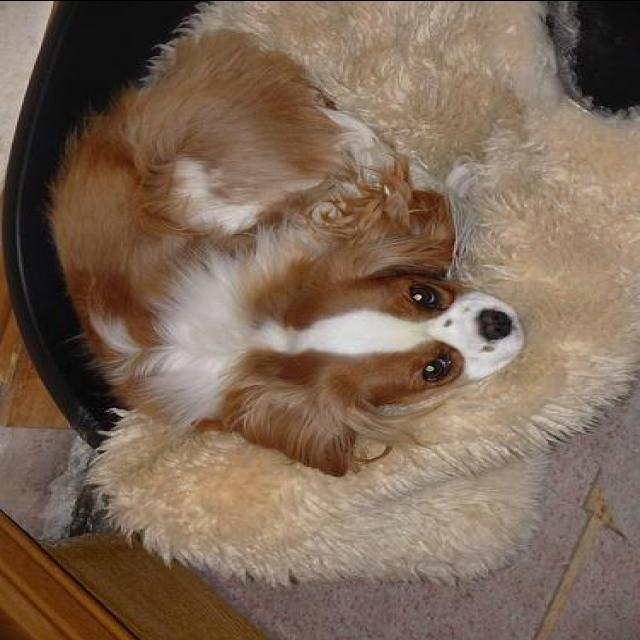blenheim_spaniel: (43, 23, 529, 480)
